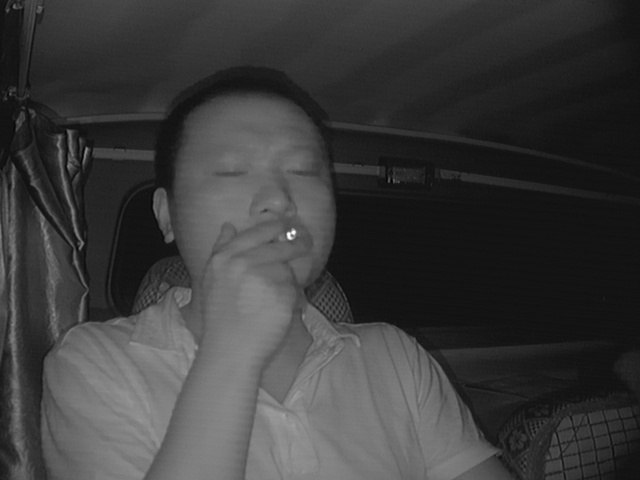hand: (220, 220, 316, 326)
